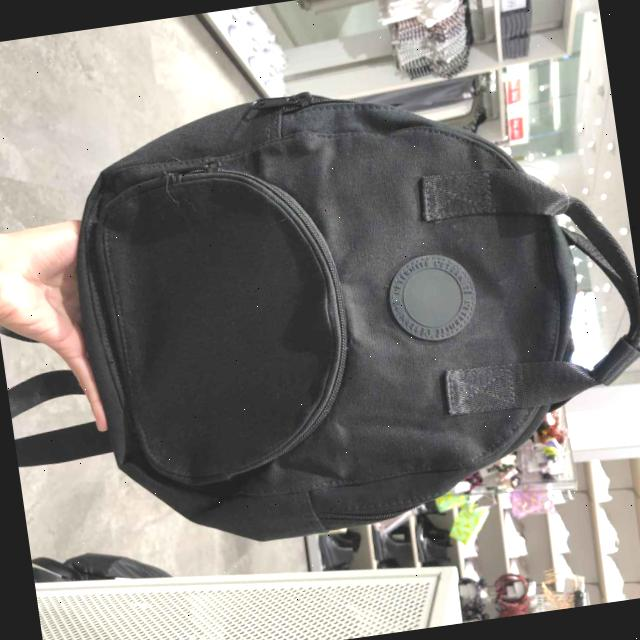Handbag: (52, 57, 640, 561)
